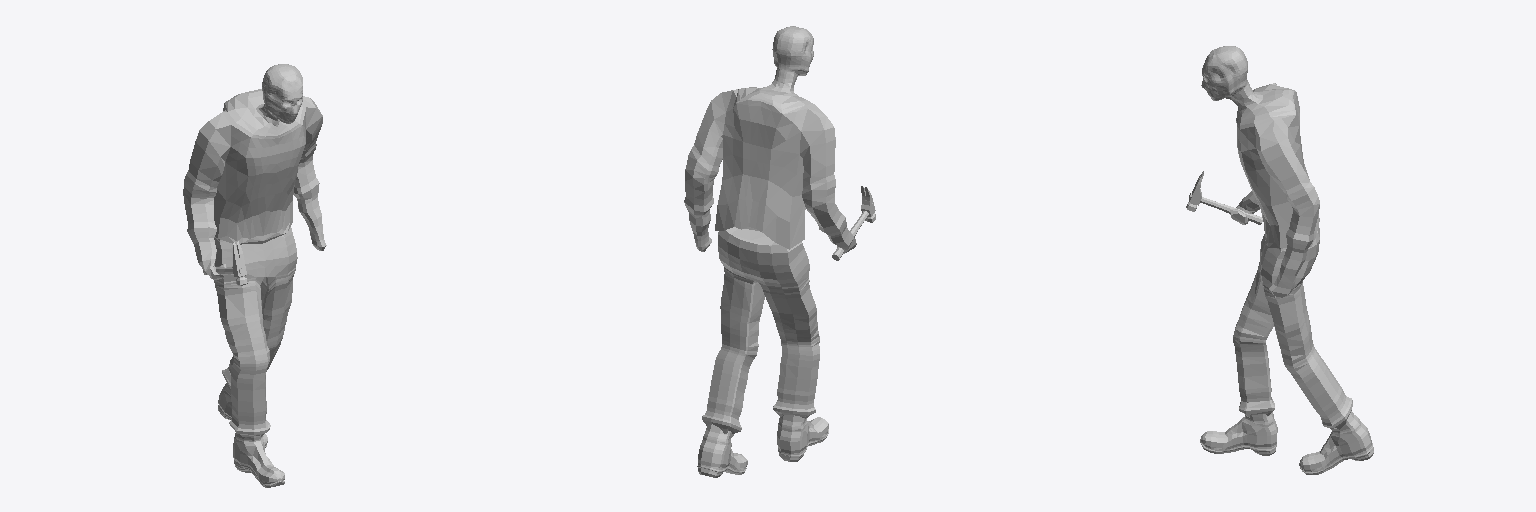
The model's file is Murderer_Step223.obj.
The picture shows the model from 3 angles: view 1: azimuth 30°, elevation 25°; view 2: azimuth 150°, elevation 25°; view 3: azimuth 270°, elevation 25°; orthographic projection.
Parts seen in each view (by area): view 1: Körper, Beine, Stiefel, Hammer; view 2: Körper, Beine, Stiefel, Hammer; view 3: Körper, Beine, Stiefel, Hammer.
Boxes of the visible parts, <box> form: Körper: <box>183,64,326,279</box>; Beine: <box>214,227,297,436</box>; Stiefel: <box>218,383,284,487</box>; Hammer: <box>203,241,247,285</box>; Körper: <box>684,26,856,253</box>; Beine: <box>702,227,819,436</box>; Stiefel: <box>697,415,828,477</box>; Hammer: <box>832,186,875,260</box>; Körper: <box>1201,46,1319,297</box>; Beine: <box>1233,227,1352,429</box>; Stiefel: <box>1200,411,1373,474</box>; Hammer: <box>1186,171,1262,224</box>.
Bounding box in the file's own units: 0.3402 × 0.9619 × 0.395.